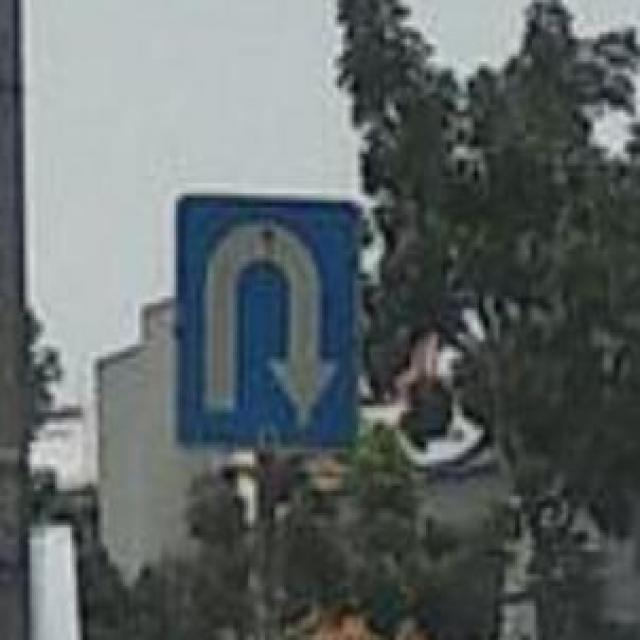traffic sign: (176, 191, 358, 455)
